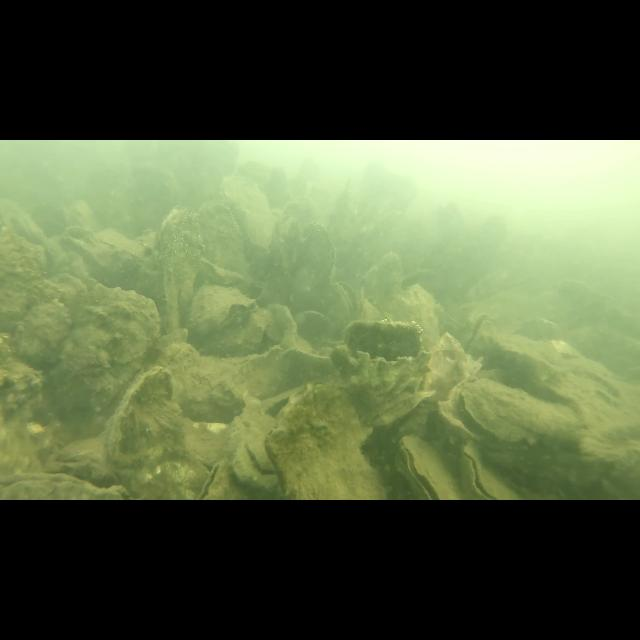Oyster-Closed: (265, 382, 389, 501), (52, 284, 160, 418), (106, 366, 186, 488), (0, 226, 56, 352), (196, 200, 248, 284), (68, 224, 146, 276), (19, 302, 71, 374), (0, 473, 132, 500), (49, 438, 112, 484), (300, 221, 334, 305)
Oyster-Open: (438, 376, 578, 452), (334, 319, 424, 405), (156, 203, 202, 335), (398, 436, 459, 500), (460, 438, 522, 499), (186, 284, 258, 334), (266, 214, 302, 300), (232, 437, 278, 488), (195, 456, 249, 499), (466, 314, 498, 364), (330, 281, 362, 325)
